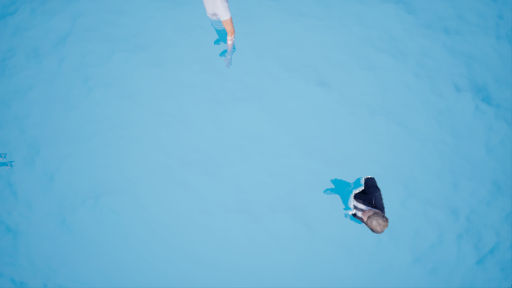person: (311, 175, 392, 232), (201, 1, 252, 68)
